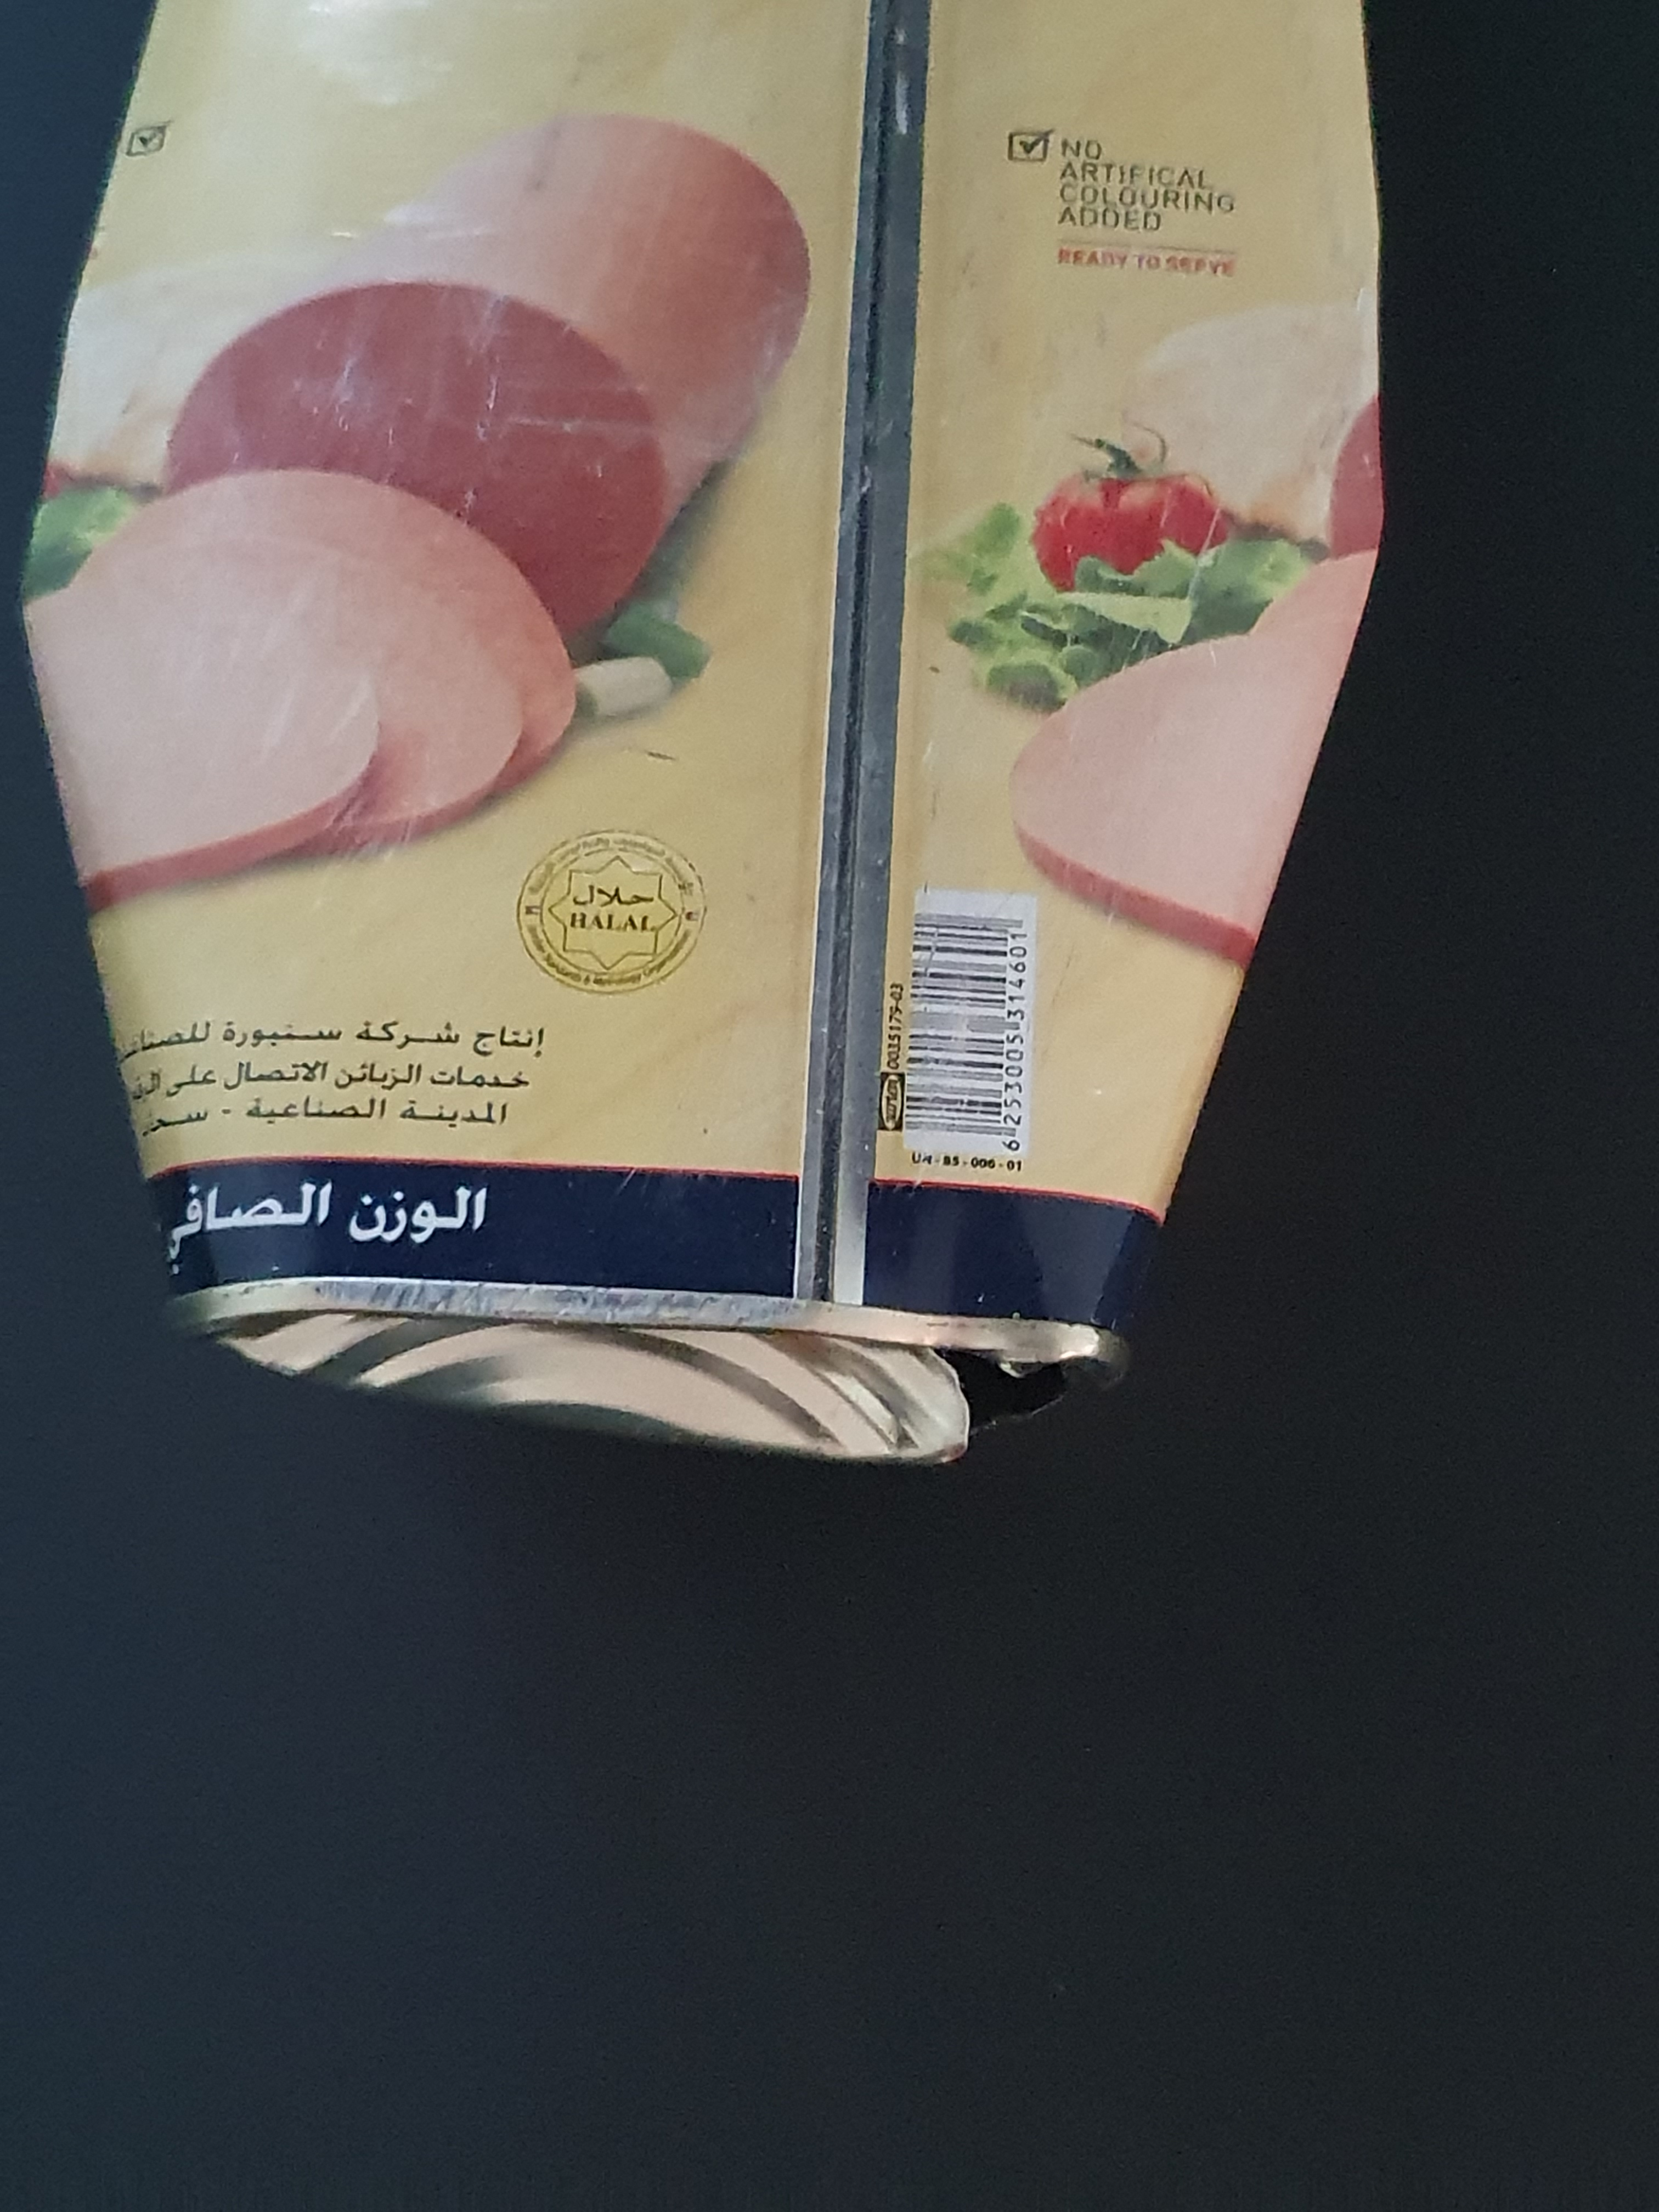metal: (0, 0, 1436, 1547)
